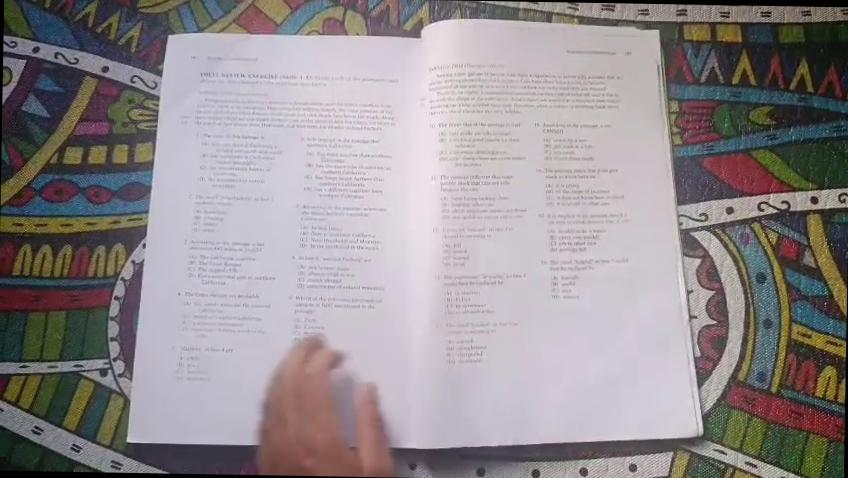Kertas: (409, 28, 668, 436), (162, 32, 450, 336)
